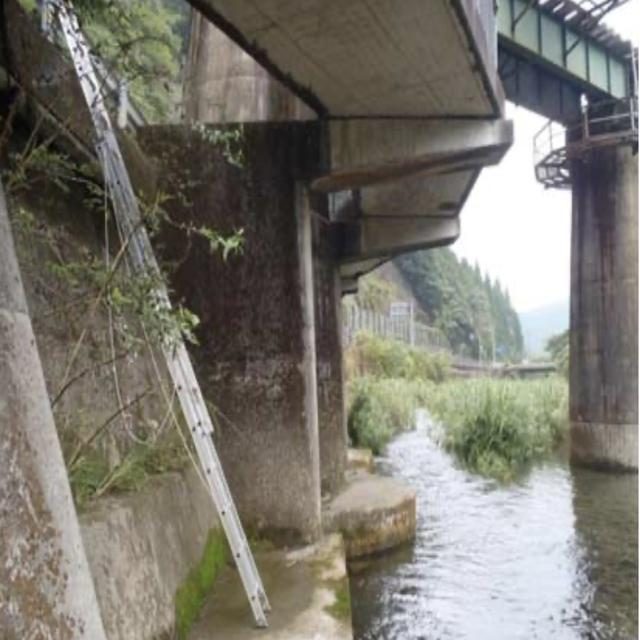leakage: (247, 121, 319, 432)
